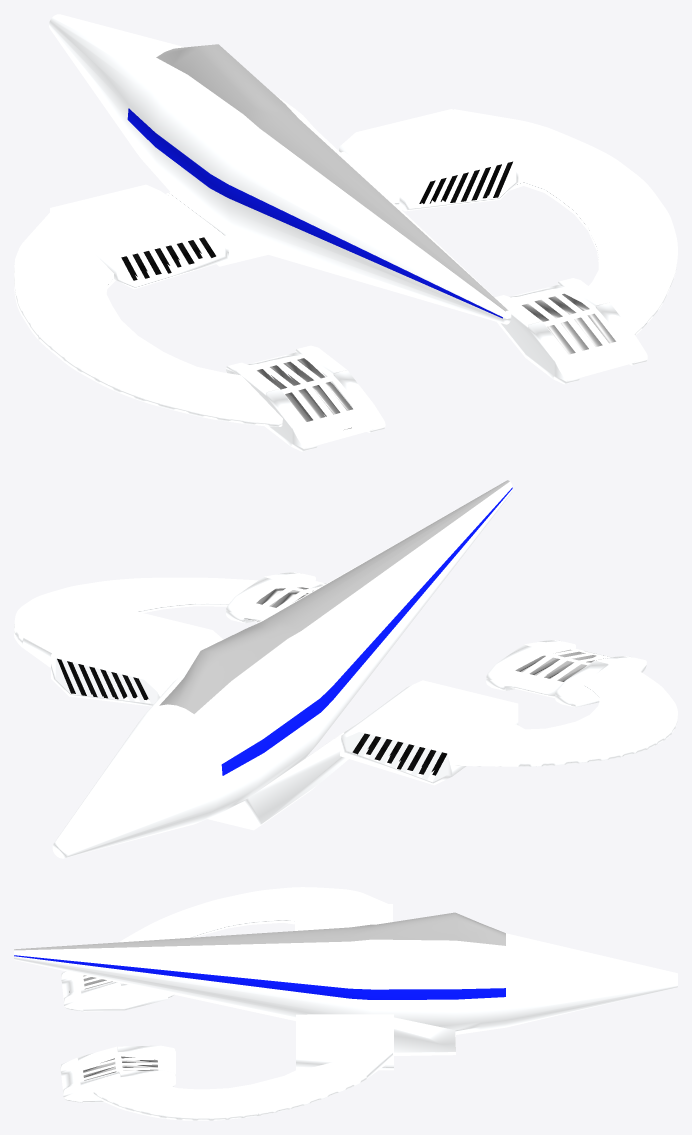
Rendered from Protector10.glb.
3 views of the same model, one above another, from view 1: azimuth 30°, elevation 25°; view 2: azimuth 150°, elevation 25°; view 3: azimuth 270°, elevation 25° (orthographic). The views are drawn at different scales.
Parts seen in each view (by area): view 1: hull, left wing, right wing, right front engine, left front engine, right engine cube, left engine cube; view 2: hull, left wing, left front engine, right front engine, right wing, left engine cube, right engine cube; view 3: hull, right wing, left wing, right front engine, right engine cube, left engine cube, left front engine.
Part boxes in pixels (<box>): hull: <box>49,14,511,324</box>; left wing: <box>14,210,282,426</box>; right wing: <box>453,109,677,335</box>; right front engine: <box>339,109,518,211</box>; left front engine: <box>50,184,229,289</box>; right engine cube: <box>495,278,647,384</box>; left engine cube: <box>226,345,385,451</box>; hull: <box>52,480,512,858</box>; left wing: <box>453,665,677,766</box>; left front engine: <box>340,680,518,785</box>; right front engine: <box>51,607,223,706</box>; right wing: <box>14,577,281,667</box>; left engine cube: <box>486,639,646,707</box>; right engine cube: <box>226,572,326,623</box>; hull: <box>14,912,677,1055</box>; right wing: <box>93,1048,393,1120</box>; left wing: <box>119,887,387,942</box>; right front engine: <box>296,1014,393,1070</box>; right engine cube: <box>60,1045,175,1102</box>; left engine cube: <box>61,971,174,1011</box>; left front engine: <box>295,904,392,930</box>.
Size of the model in its own units: 3.95 by 1.08 by 5.05.
